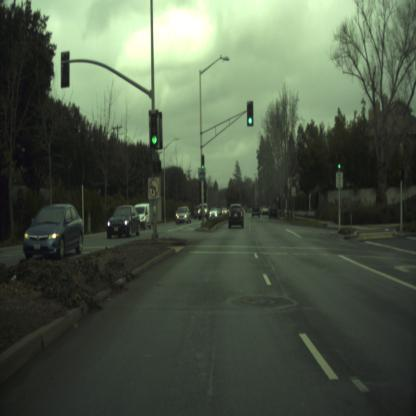Green: (151, 114, 157, 144), (246, 101, 253, 126), (201, 154, 204, 169), (338, 152, 340, 168)
